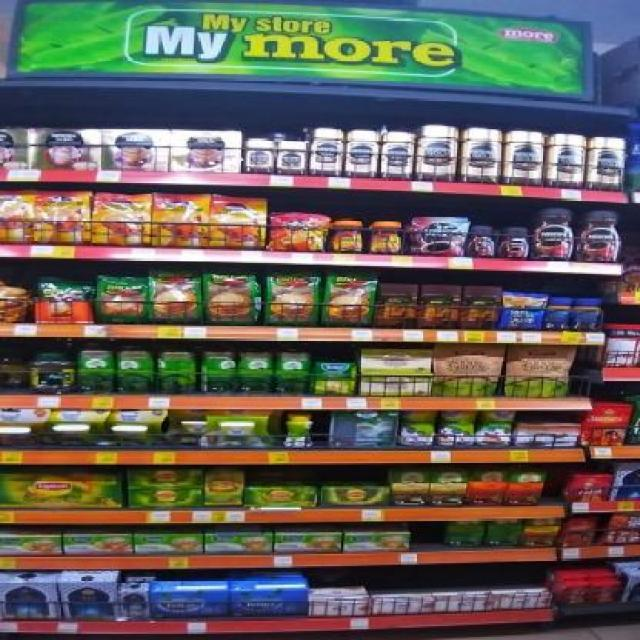Coffee: (94, 192, 148, 246), (211, 195, 265, 249), (36, 192, 89, 246), (154, 194, 207, 248), (579, 209, 621, 261), (533, 208, 574, 261), (419, 125, 457, 181), (464, 128, 502, 184), (412, 219, 466, 257), (507, 131, 543, 187), (589, 137, 627, 189), (273, 215, 325, 252), (549, 134, 583, 188), (309, 128, 342, 176), (347, 130, 378, 178), (382, 131, 413, 179), (369, 220, 402, 254), (331, 220, 363, 254), (500, 227, 529, 259), (277, 141, 305, 174), (246, 138, 272, 172), (469, 227, 495, 259)
